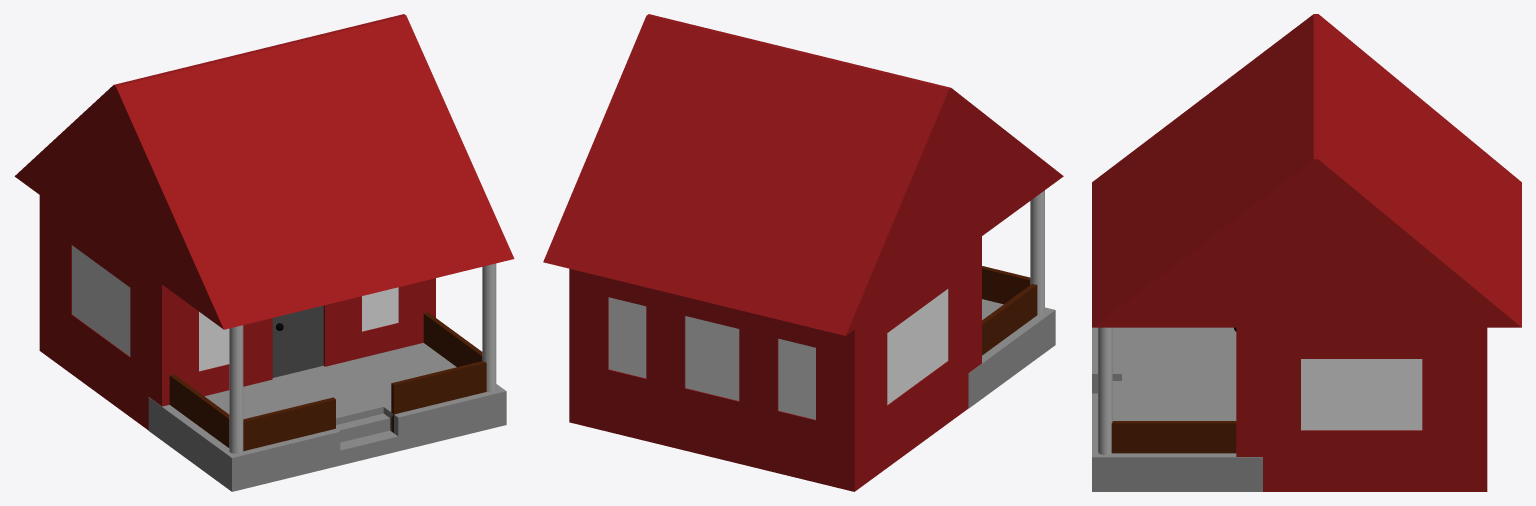
Rendered from House 3.fbx.
3 renders of one model, left to right at view 1: azimuth 30°, elevation 25°; view 2: azimuth 150°, elevation 25°; view 3: azimuth 270°, elevation 25°, orthographic. The views are drawn at different scales.
Parts seen in each view (by area): view 1: House 3; view 2: House 3; view 3: House 3.
Part boxes in pixels (box(x1,y1,x2,y2)): House 3: box(14, 14, 514, 491); House 3: box(543, 14, 1063, 491); House 3: box(1092, 14, 1521, 491).
Size of the model in its own units: 932 by 1006 by 1165.
